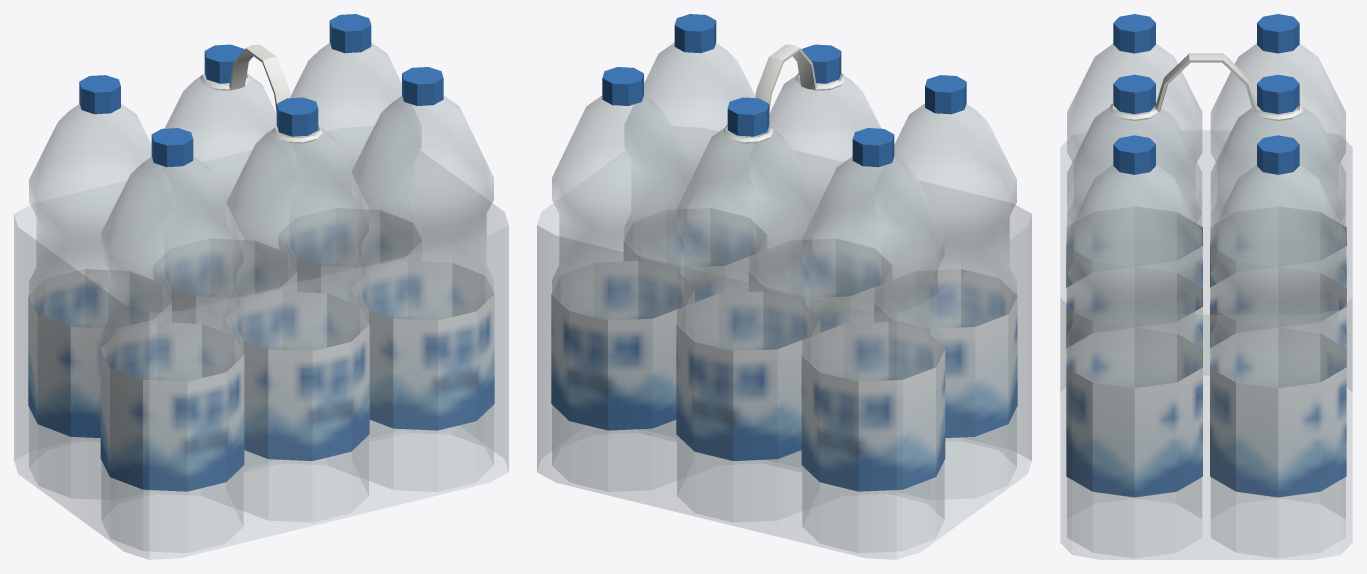
The model's file is SC_Prod_Water_6Pack.gltf.
3 renders of one model, left to right at view 1: azimuth 30°, elevation 25°; view 2: azimuth 150°, elevation 25°; view 3: azimuth 270°, elevation 25°, orthographic.
Visible parts, largest first — view 1: SC_Prod_Water_6Pack; view 2: SC_Prod_Water_6Pack; view 3: SC_Prod_Water_6Pack.
Part boxes in pixels (box(x1,y1,x2,y2)): SC_Prod_Water_6Pack: box(14, 14, 508, 559); SC_Prod_Water_6Pack: box(537, 14, 1031, 559); SC_Prod_Water_6Pack: box(1060, 14, 1352, 559).
Bounding box in the file's own units: 0.322 × 0.336 × 0.216.
Materials: 3 (3 with a texture image).
